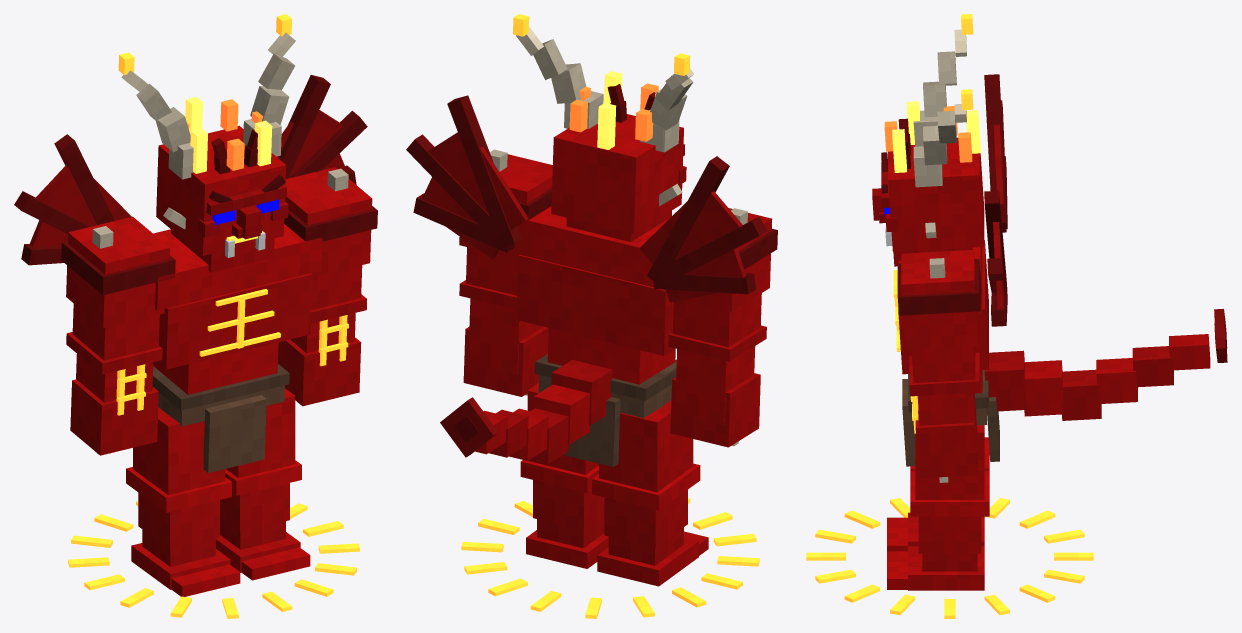
The model's file is demon_s0_evo3.glb.
The picture shows the model from 3 angles, left to right: view 1: azimuth 30°, elevation 25°; view 2: azimuth 150°, elevation 25°; view 3: azimuth 270°, elevation 25°; orthographic projection. The views are drawn at different scales.
Visible parts, largest first — view 1: Torso, Head, ArmR, ArmL, LegR, LegL, Root; view 2: Torso, Head, ArmR, LegR, ArmL, LegL, Root; view 3: Torso, Head, ArmL, LegL, Root, LegR.
Boxes of the visible parts, x1,y1,x2,y2 form: Torso: (14,75,367,472); Head: (118,14,295,272); ArmR: (61,216,175,455); ArmL: (278,167,377,406); LegR: (126,407,240,596); LegL: (216,388,310,580); Root: (68,501,359,618); Torso: (406,95,767,466); Head: (513,14,693,241); ArmR: (668,208,777,447); LegR: (592,400,708,586); ArmL: (459,149,552,396); LegL: (520,382,608,568); Root: (461,498,759,618); Torso: (893,74,1227,466); Head: (872,14,984,266); ArmL: (897,249,980,482); LegL: (887,425,989,590); Root: (806,498,1093,618); LegR: (887,437,989,551).
Bounding box in the file's own units: 1.58 × 2.25 × 1.7.
32 materials, 32 textured.
